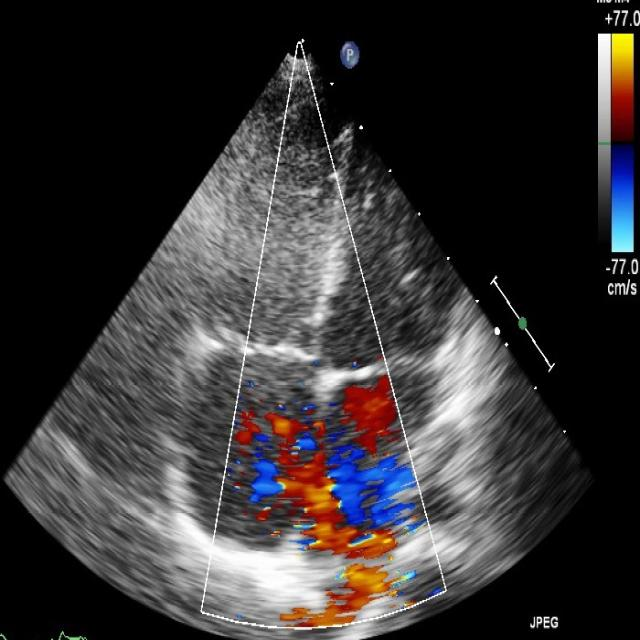ASDType2: (237, 371, 434, 621)
